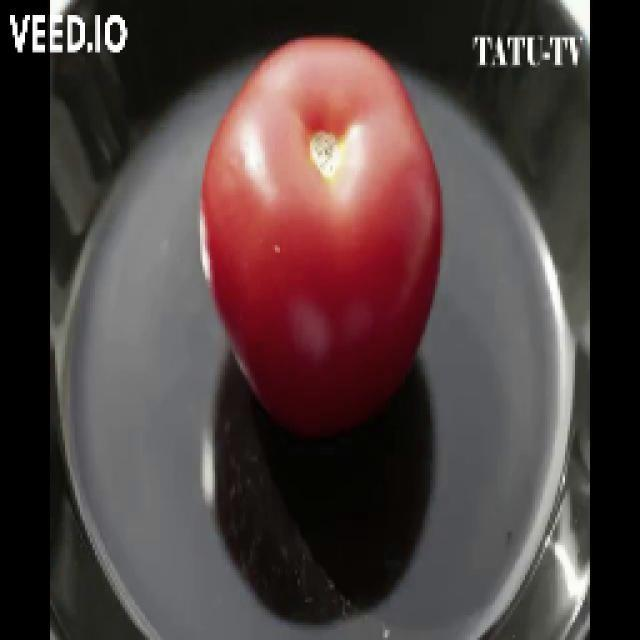tomato: (198, 37, 444, 444)
